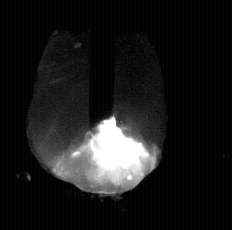arame: (89, 0, 115, 129)
poca: (26, 0, 166, 230)
